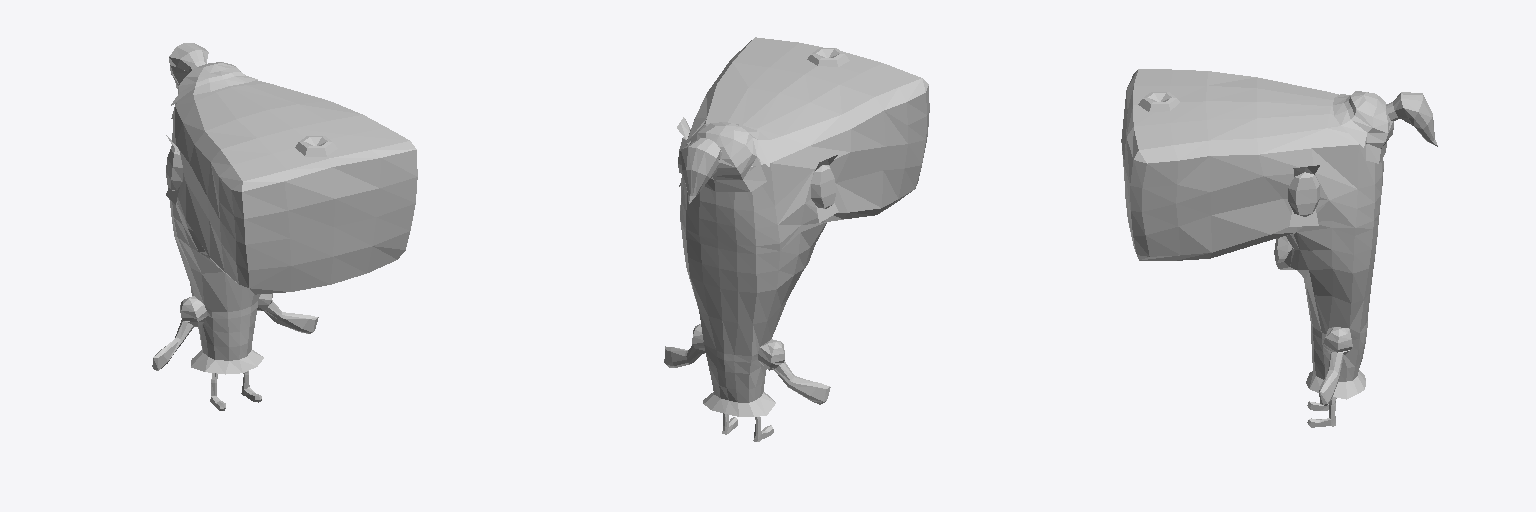
Rendered from pearl.obj.
3 views of the same model, side by side, from view 1: azimuth 30°, elevation 25°; view 2: azimuth 150°, elevation 25°; view 3: azimuth 270°, elevation 25° (orthographic).
Visible parts, largest first — view 1: Mesh_00532; view 2: Mesh_00532; view 3: Mesh_00532.
Part boxes in pixels (x1,y1,x2,y2): Mesh_00532: (152,43,417,410); Mesh_00532: (664,37,929,441); Mesh_00532: (1121,69,1437,427).
Bounding box in the file's own units: 5.21 × 8.82 × 7.85.